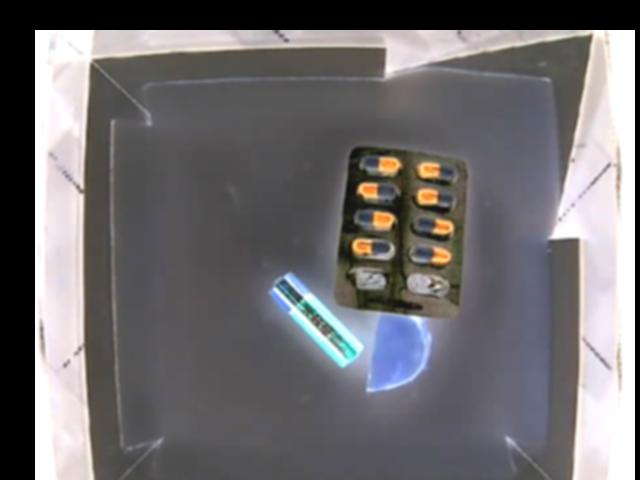Battery: (269, 273, 362, 368)
Medicine: (340, 145, 464, 322)
Potato: (370, 311, 430, 393)
